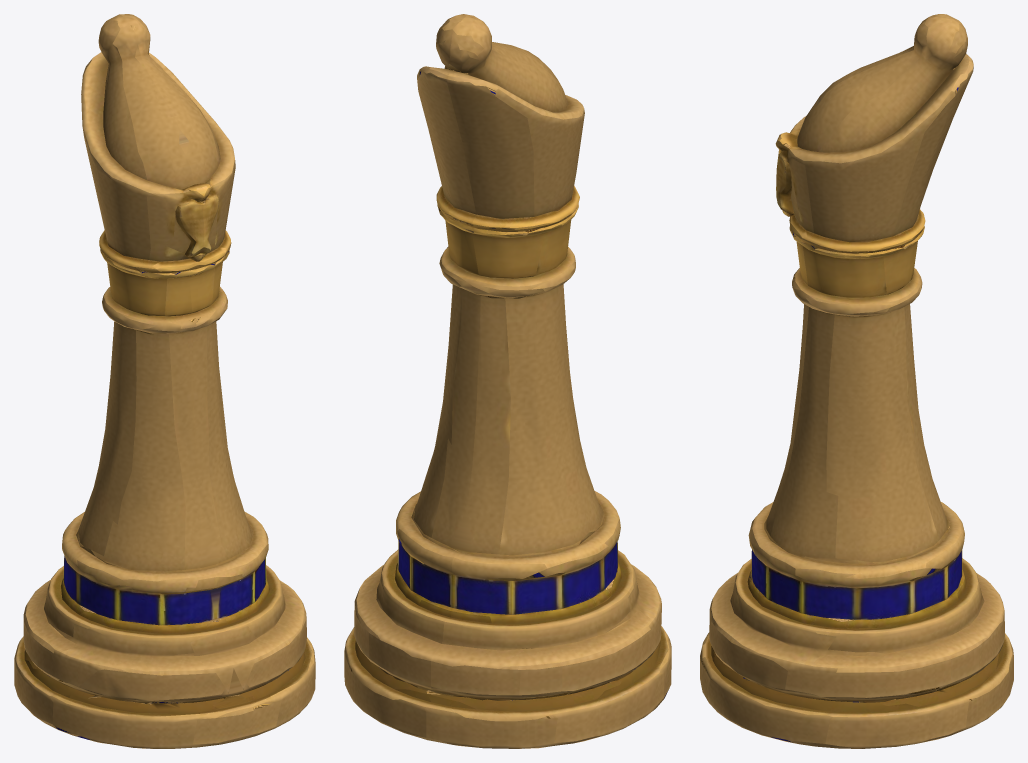
3 views of the same model, side by side, from view 1: azimuth 30°, elevation 25°; view 2: azimuth 150°, elevation 25°; view 3: azimuth 270°, elevation 25° (orthographic). The views are drawn at different scales.
Parts seen in each view (by area): view 1: world; view 2: world; view 3: world.
Boxes of the visible parts, x1,y1,x2,y2 form: world: (14, 14, 315, 748); world: (344, 14, 671, 748); world: (700, 14, 1013, 748).
Size of the model in its own units: 0.4273 by 1 by 0.4273.
1 material, 1 textured.
